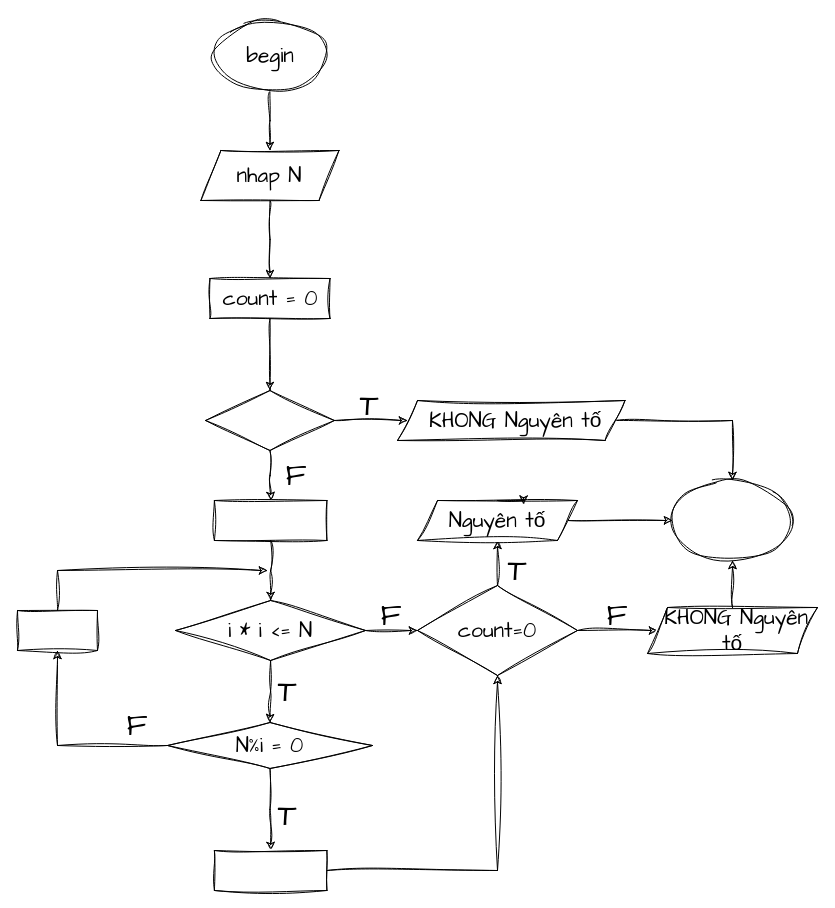
Image size: 835x908. Some labels were removed from this diagram. The shapes that lost their labels are listed below. From the top down, each one's box as (x1, y1, x2, y2) in pixels, then its label:
(205, 390, 334, 450): N < 2
(213, 500, 327, 540): i = 2
(672, 480, 792, 560): end
(16, 610, 98, 650): i ++
(213, 850, 327, 890): count = 1
